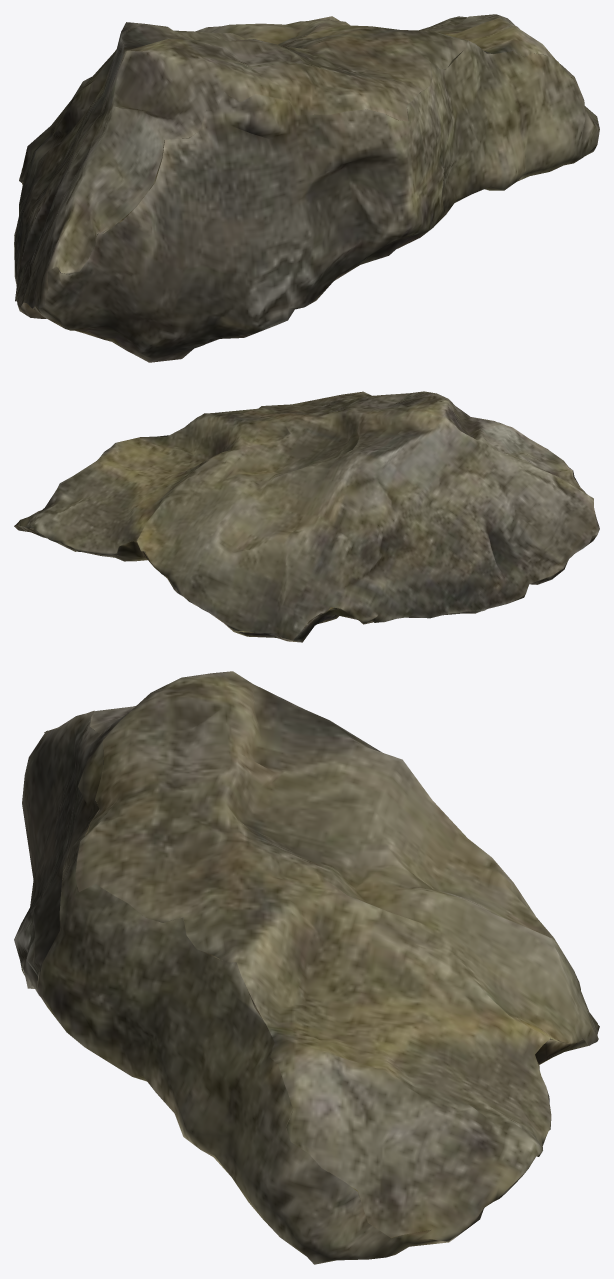
Rendered from rock_moss_set_02_6.glb.
The picture shows the model from 3 angles, top to bottom: view 1: azimuth 30°, elevation 25°; view 2: azimuth 150°, elevation 25°; view 3: azimuth 270°, elevation 25°; orthographic projection. The views are drawn at different scales.
Visible parts, largest first — view 1: rock_moss_set_02_rock09; view 2: rock_moss_set_02_rock09; view 3: rock_moss_set_02_rock09.
Part boxes in pixels (x1=…): rock_moss_set_02_rock09: x1=14, y1=14, x2=599, y2=362; rock_moss_set_02_rock09: x1=14, y1=391, x2=599, y2=642; rock_moss_set_02_rock09: x1=14, y1=671, x2=599, y2=1264.
Bounding box in the file's own units: 1.63 × 0.6079 × 1.02.
1 material, 1 textured.
